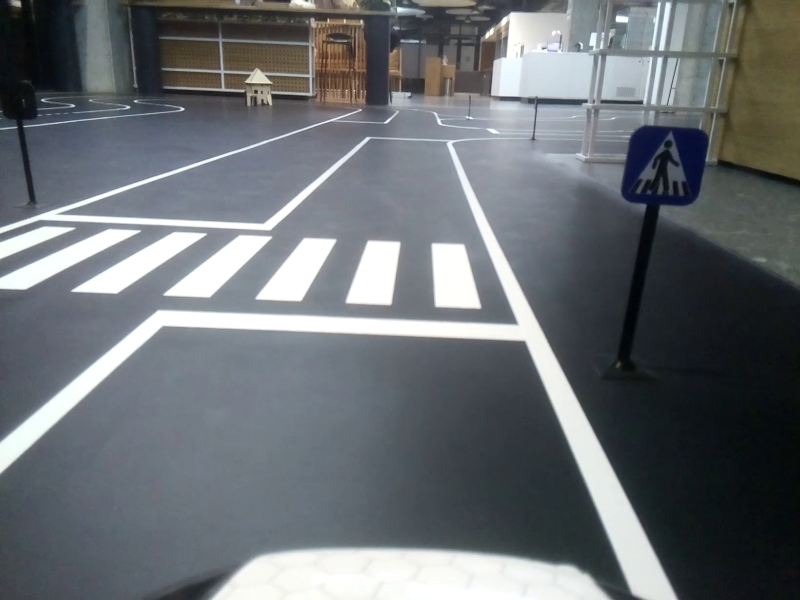pedestrian: (624, 125, 705, 207)
